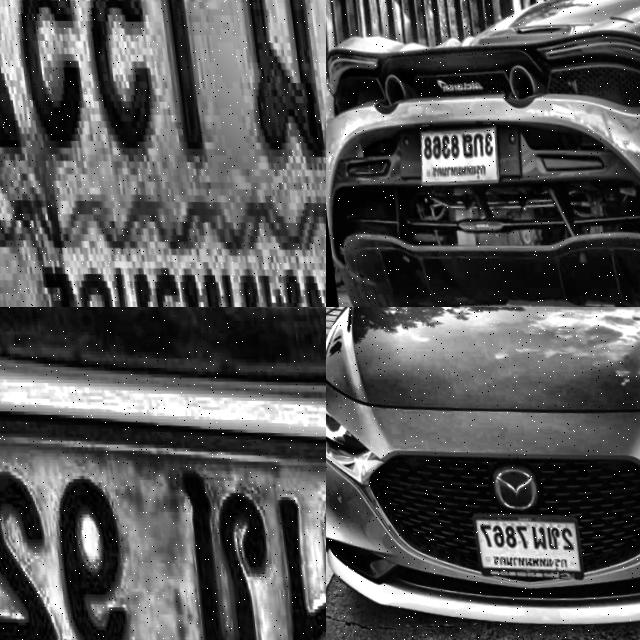license-plate: (0, 328, 326, 640), (0, 0, 326, 307), (461, 509, 574, 582), (401, 112, 497, 191)
